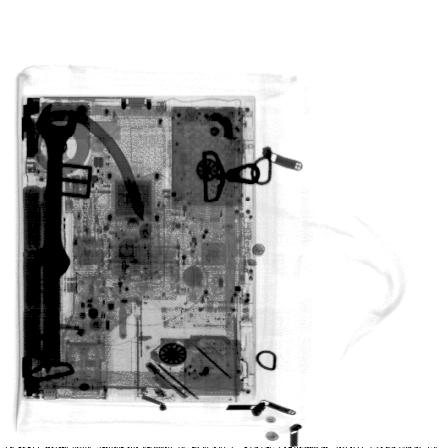Wrench: (35, 101, 77, 369)
